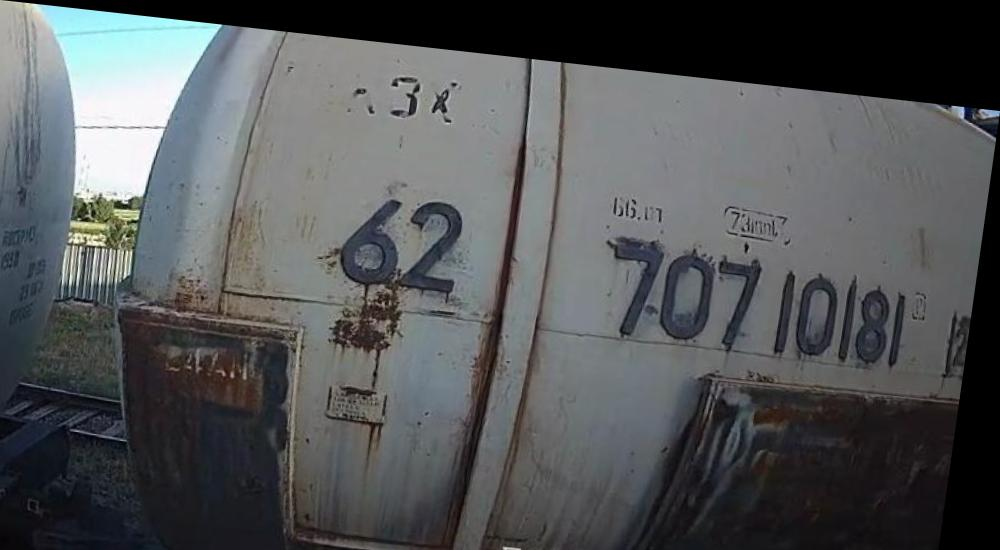Wagon-number: (603, 221, 922, 352)
